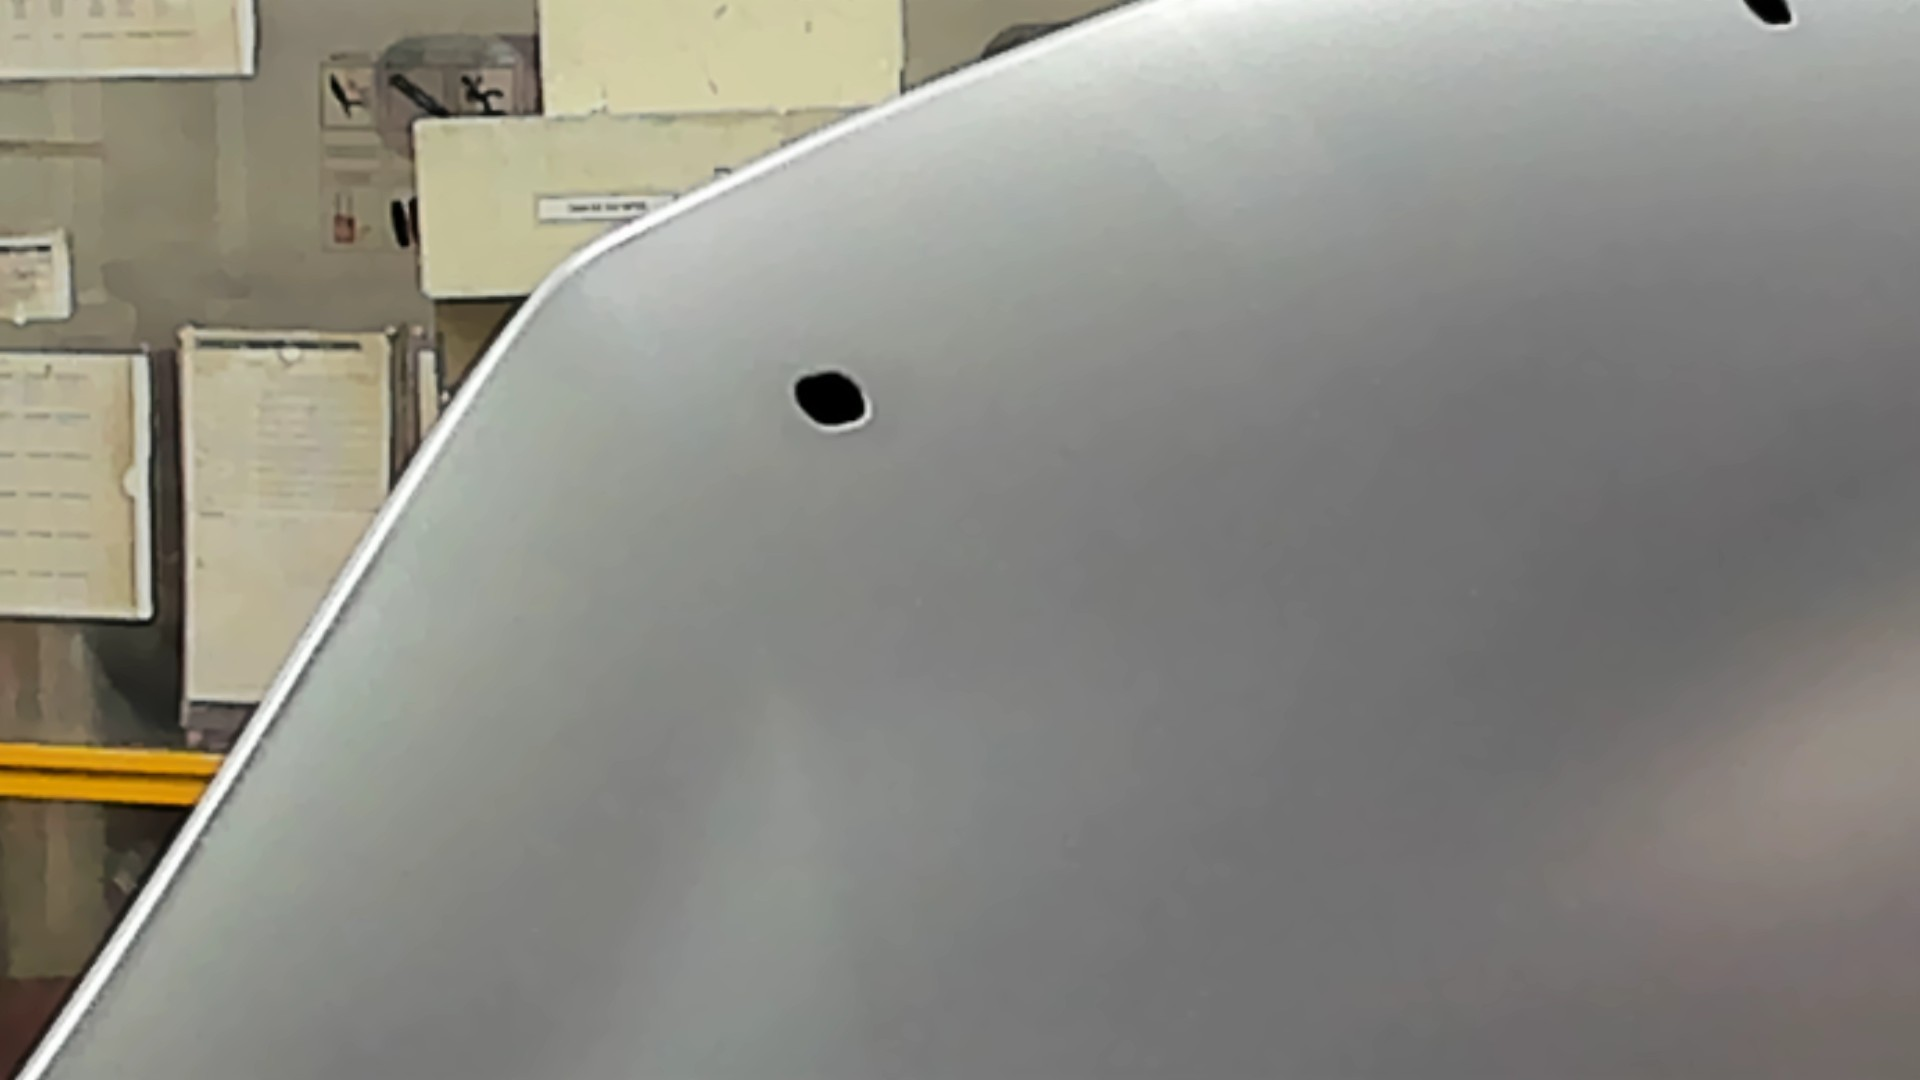amorfo: (786, 363, 882, 440), (1731, 1, 1805, 36)
